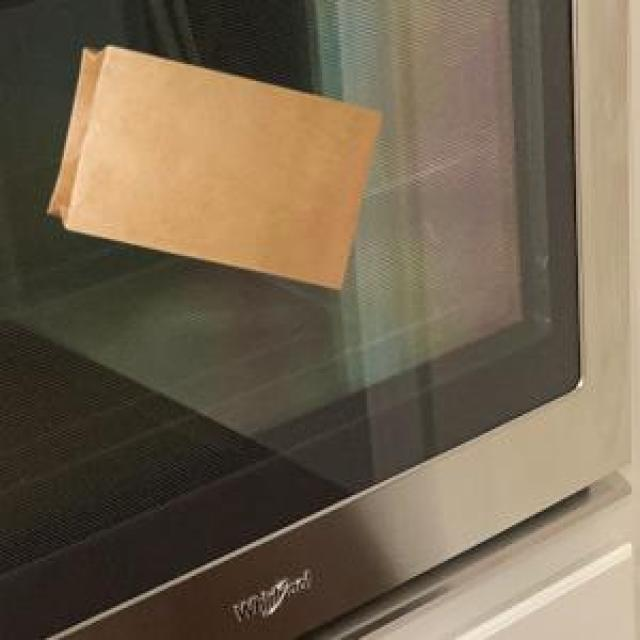paper: (45, 43, 377, 284)
